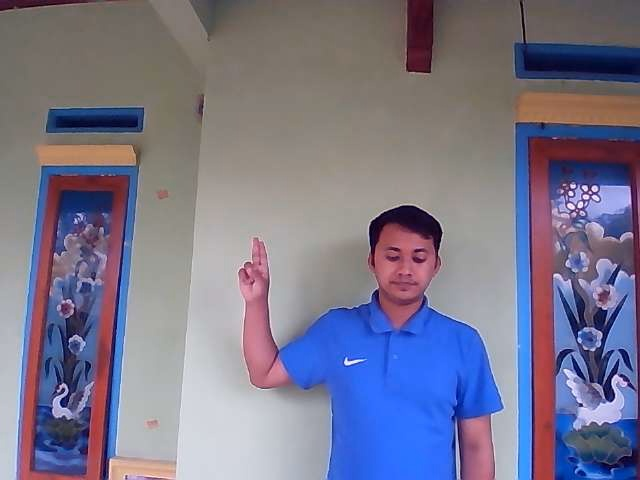U: (237, 236, 271, 302)
